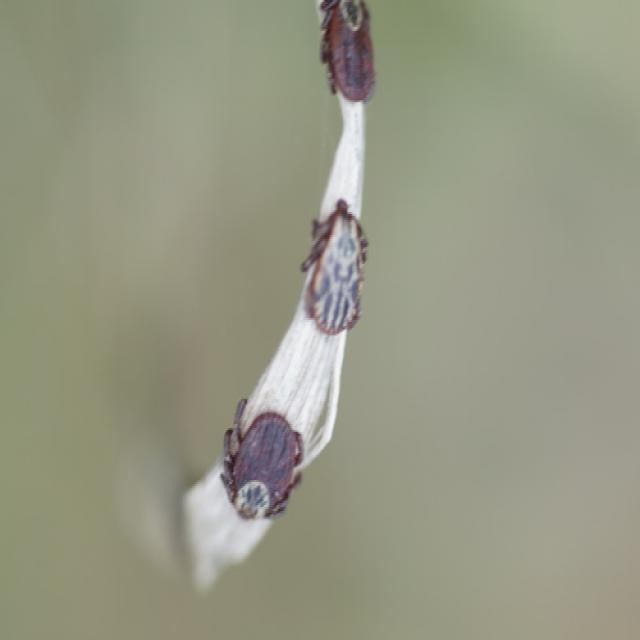Dermacentor Reticulatus-F: (219, 397, 305, 520), (314, 0, 378, 112)
Dermacentor Reticulatus-M: (301, 200, 370, 333)
